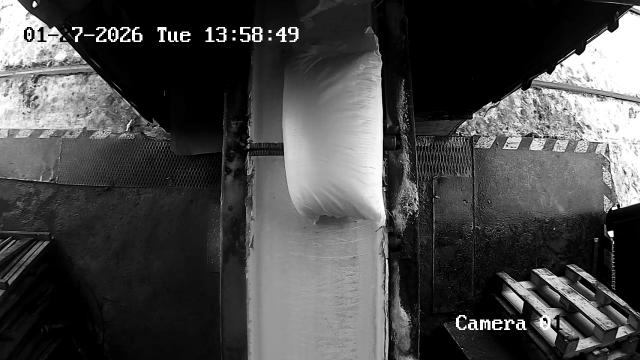bag: (282, 28, 385, 224)
